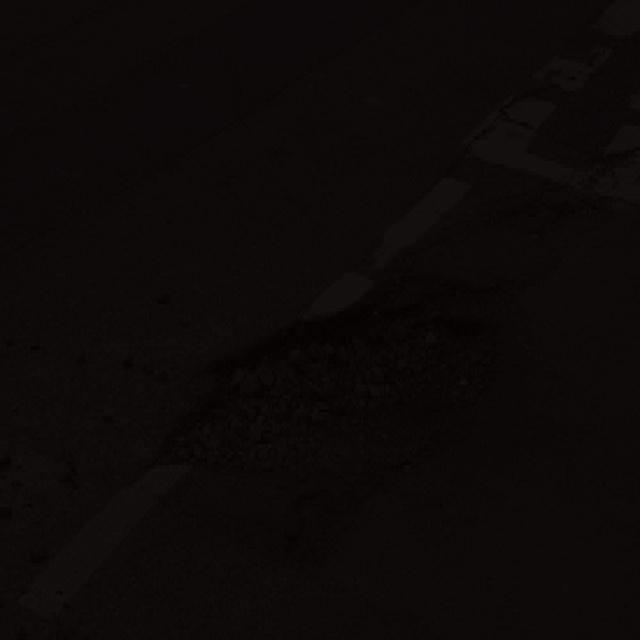Pothole: (133, 267, 516, 567)
